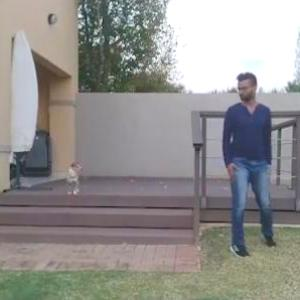follow: (221, 67, 274, 257)
